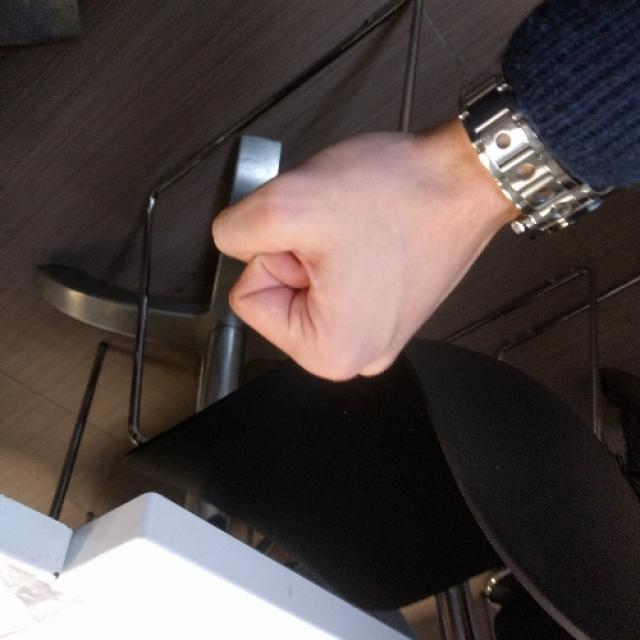fist: (211, 130, 469, 383)
